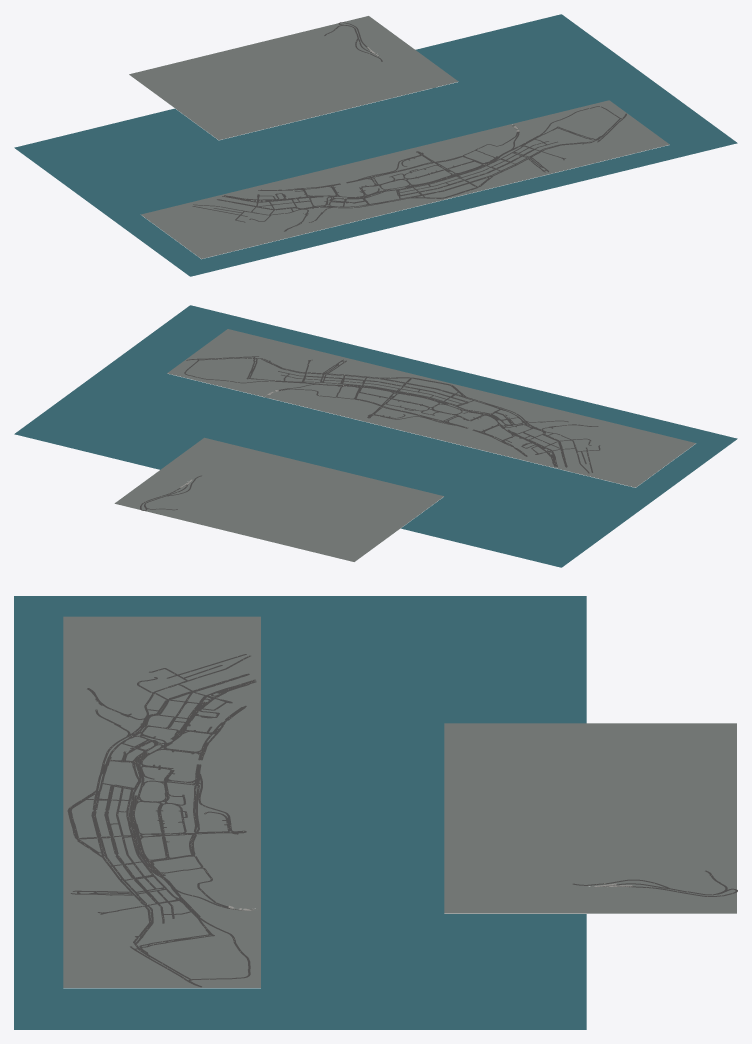
Rendered from cross-harbour.glb.
3 views of the same model, one above another, from view 1: azimuth 30°, elevation 25°; view 2: azimuth 150°, elevation 25°; view 3: azimuth 270°, elevation 25° (orthographic). The views are drawn at different scales.
Parts seen in each view (by area): view 1: HarbourWater, HarbourGround, RoadSurface; view 2: HarbourWater, HarbourGround, RoadSurface; view 3: HarbourWater, HarbourGround, RoadSurface.
Part boxes in pixels (x1,y1,x2,y2): HarbourWater: [14, 14, 737, 276]; HarbourGround: [129, 16, 669, 258]; RoadSurface: [192, 22, 626, 231]; HarbourWater: [14, 305, 737, 567]; HarbourGround: [114, 329, 695, 561]; RoadSurface: [140, 356, 600, 510]; HarbourWater: [14, 596, 586, 1029]; HarbourGround: [63, 616, 736, 987]; RoadSurface: [67, 654, 737, 987].
Size of the model in its own units: 5200 by 38.56 by 3666.
Materials: 8 (3 with a texture image).
